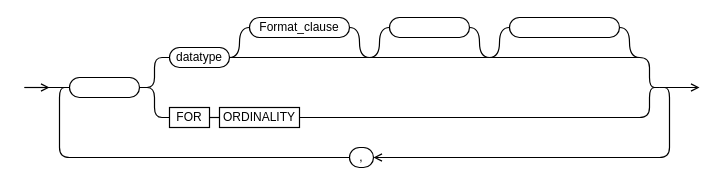
Some shapes in this 726 by 186 pixel diagram are drawn without their labels. The centre of each missing label's shape, as x and y in pixels:
"identifier" belongs at pixel 104 87.
"Metadata_clause" belongs at pixel 564 27.
"Ref_clause" belongs at pixel 429 27.
